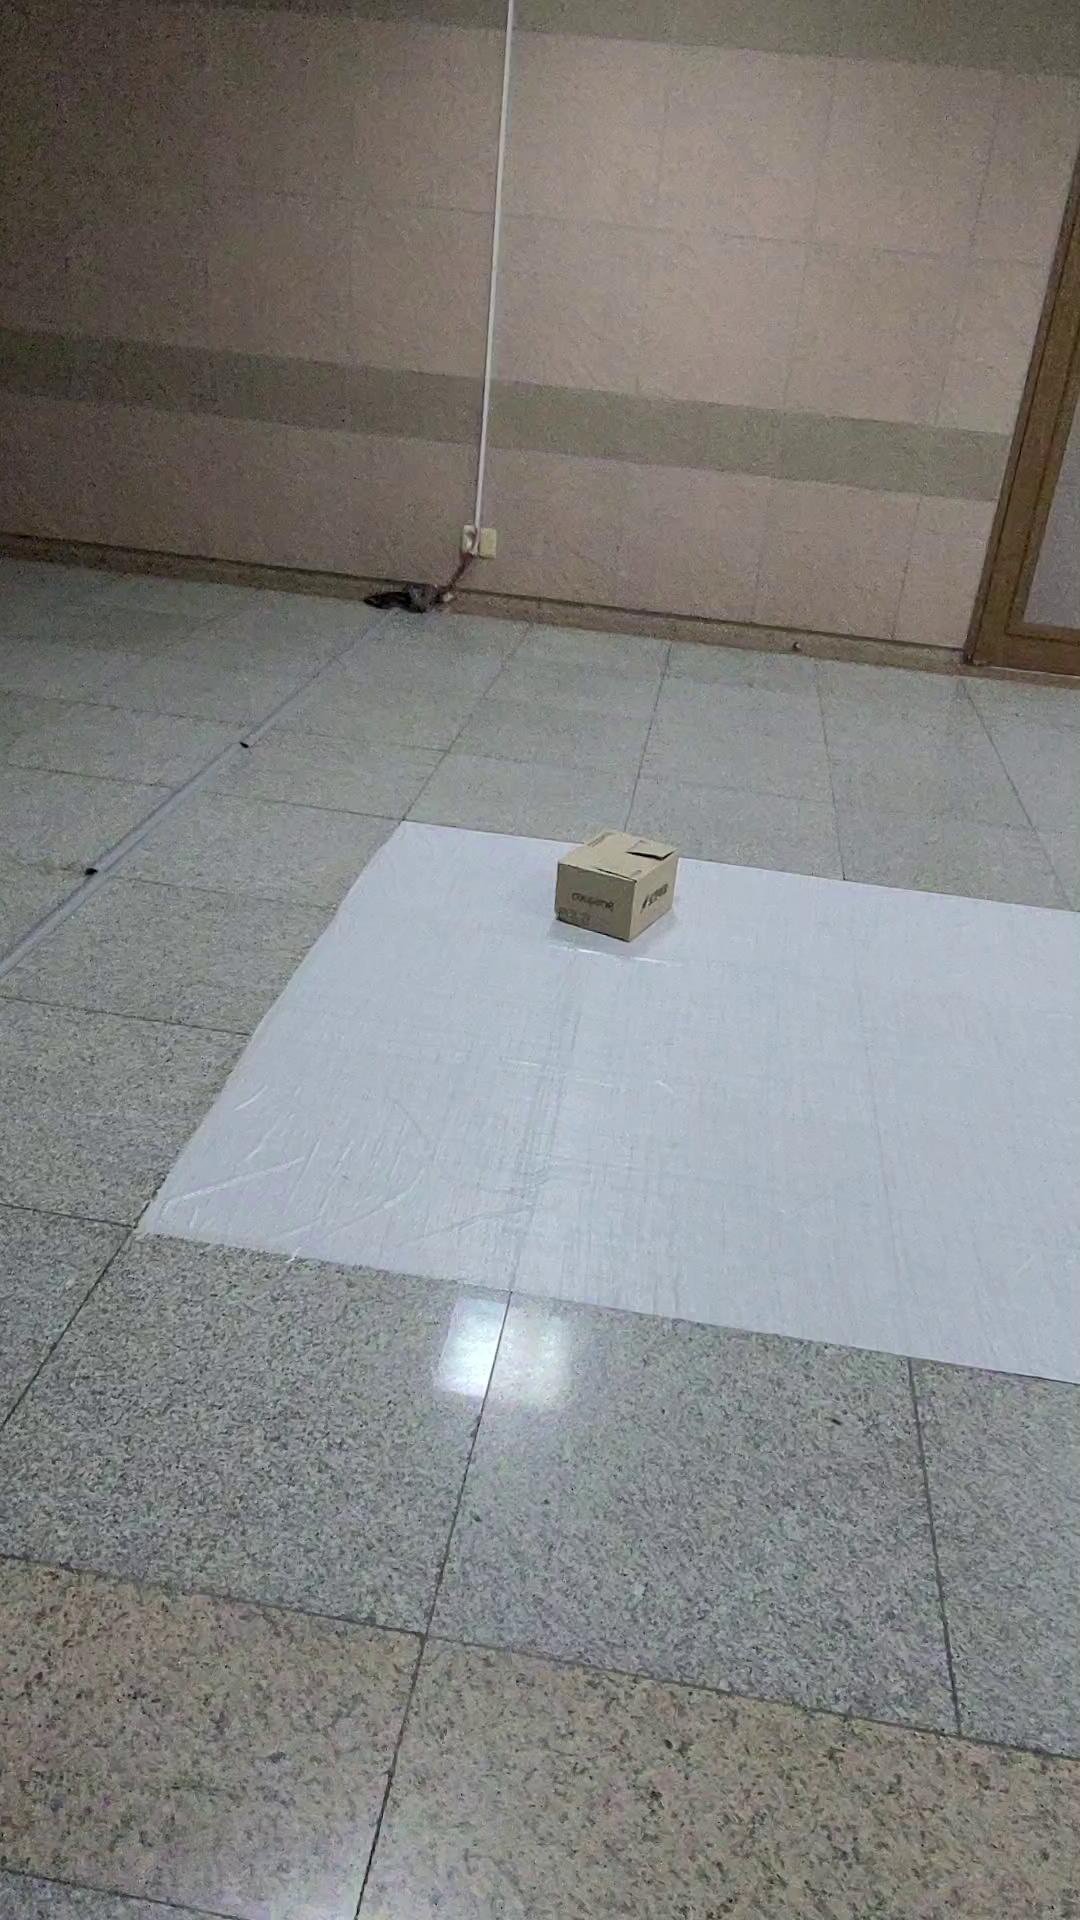Box: (549, 825, 692, 940)
